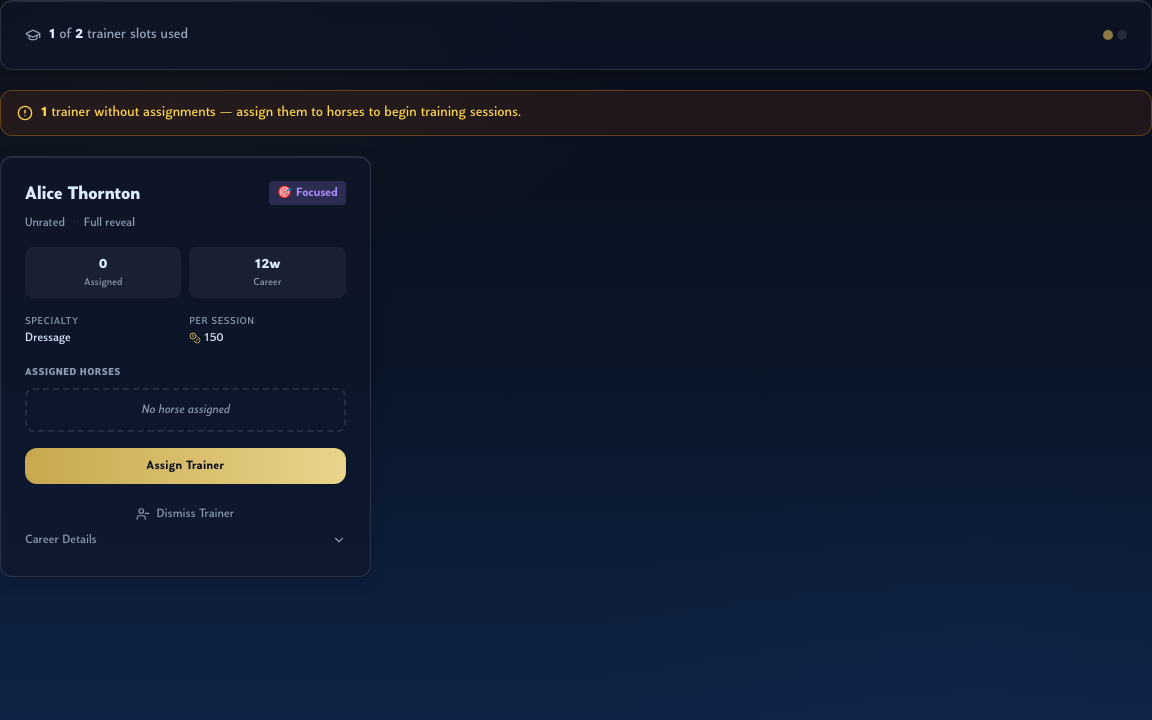
it: MyTrainersDashboard — horse picker (Equoria-gpnck) › retry refetches the horses and recovers to the list
Click the button "Assign Trainer".
click(185, 466)  # box [25, 448, 346, 484]
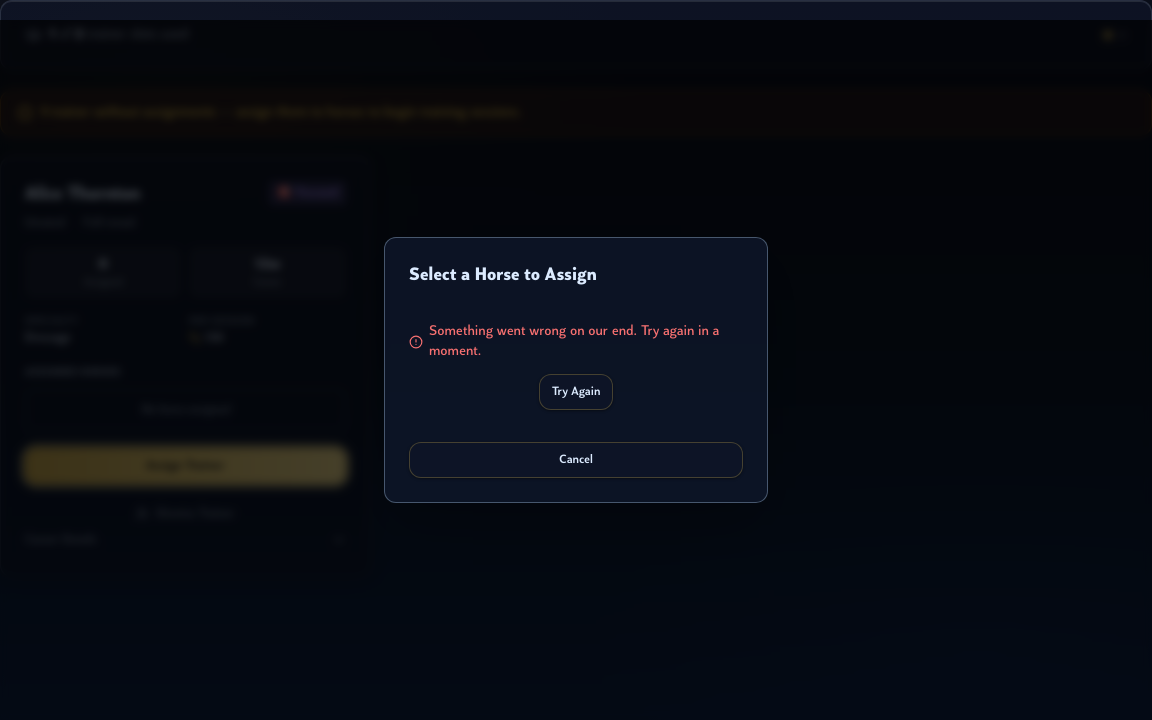
Click the button "Try Again".
click(576, 392)  # box [539, 374, 613, 410]
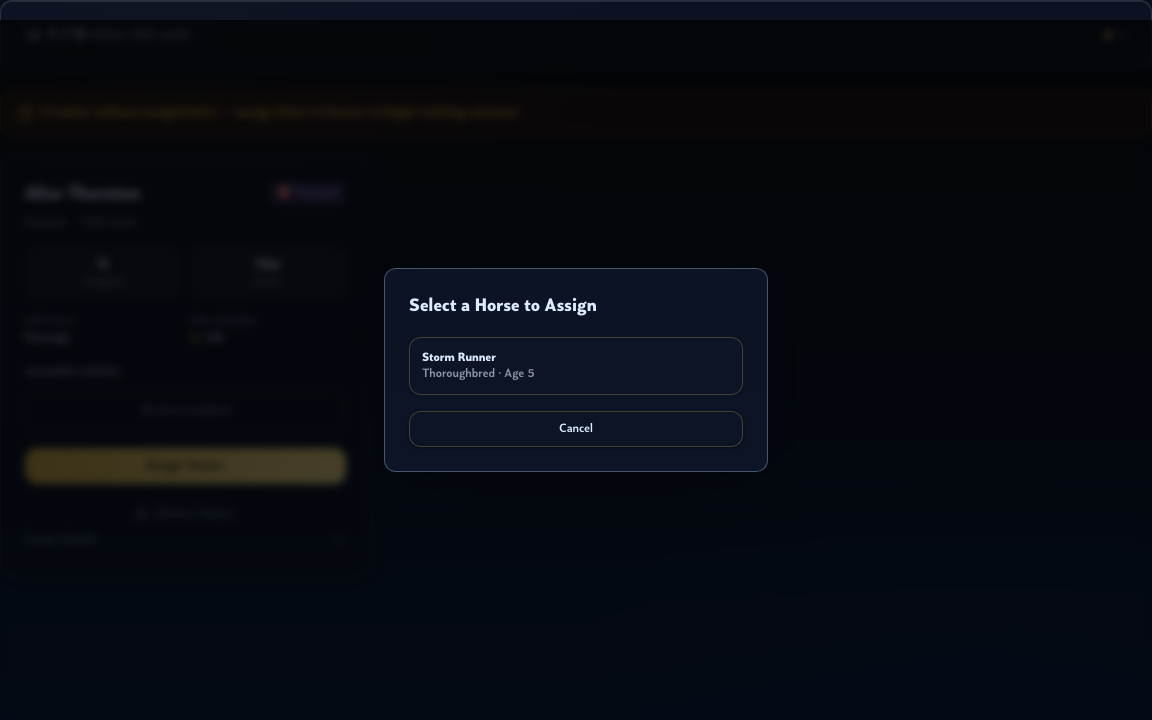
Now the text "Storm Runner" is shown, box [422, 350, 496, 366]
Now the message "Something went wrong on our end. Try again in a moment." is gone
